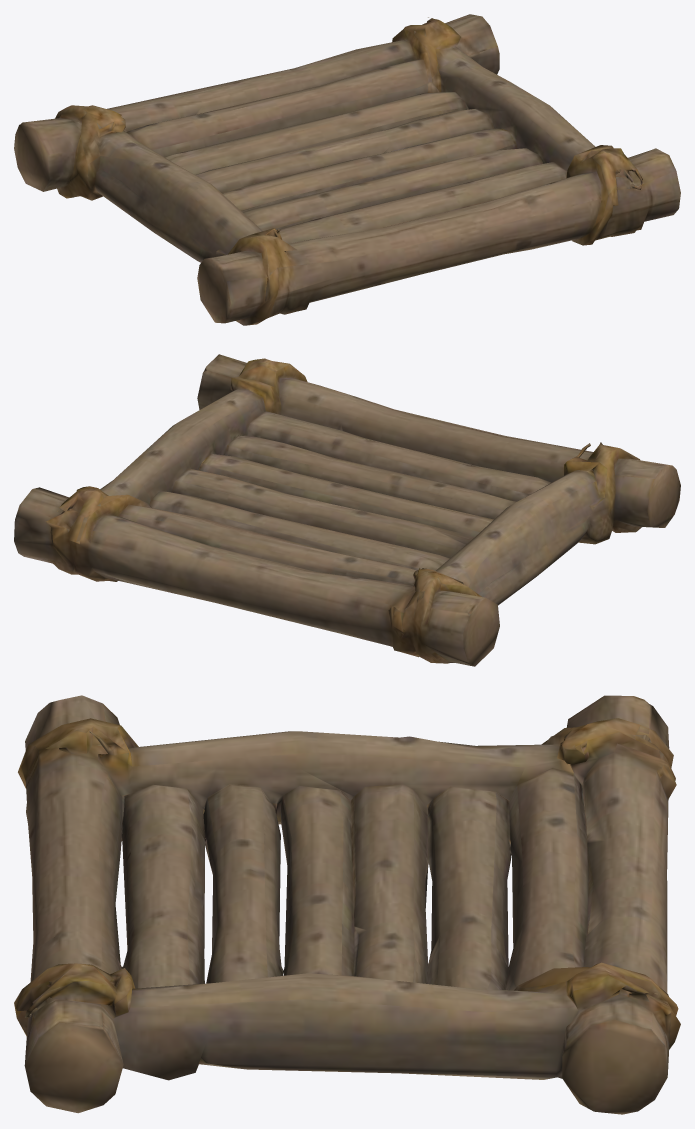
Rendered from floss_baumstamm.glb.
3 views of the same model, one above another, from view 1: azimuth 30°, elevation 25°; view 2: azimuth 150°, elevation 25°; view 3: azimuth 270°, elevation 25° (orthographic). The views are drawn at different scales.
Bounding box in the file's own units: 2 × 0.3624 × 1.73.
1 material, 1 textured.
